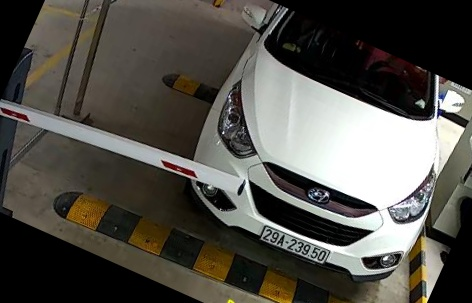plate: (250, 218, 329, 267)
